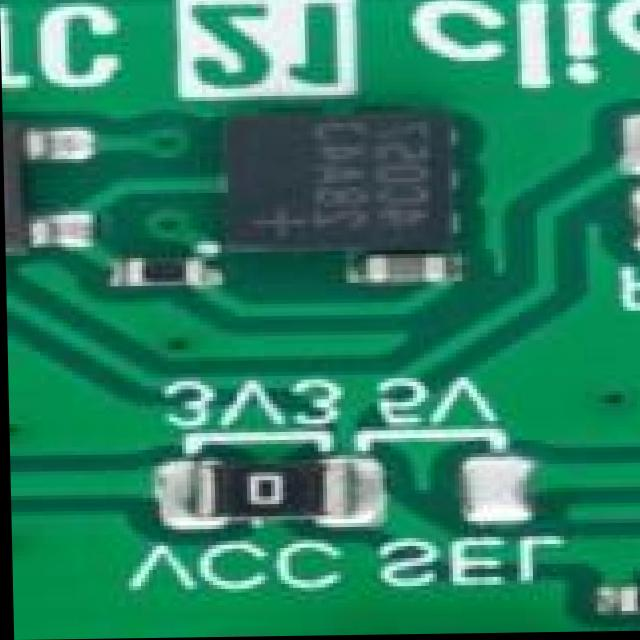IC: (206, 87, 468, 250)
capacitor: (368, 249, 467, 280)
resistor: (180, 456, 357, 530), (128, 250, 207, 295)
transistor: (2, 123, 60, 252)
